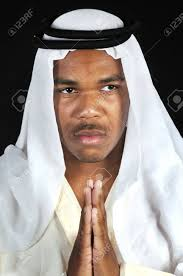middle_eastern_male: (51, 46, 130, 164)
